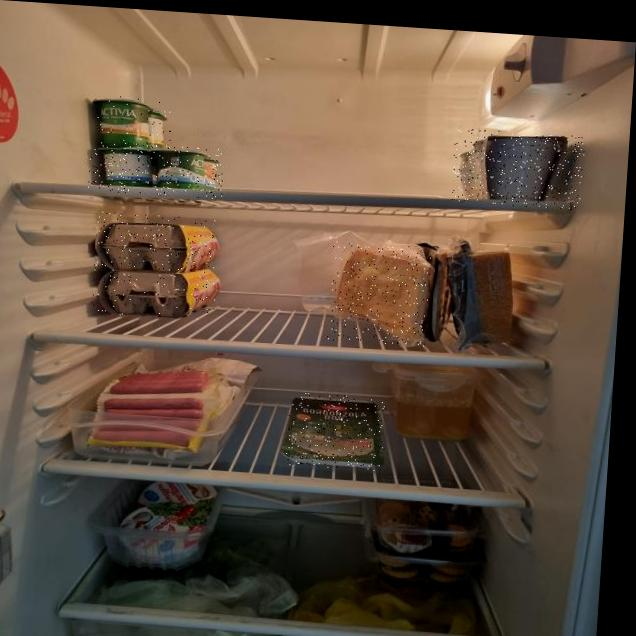cheese: (327, 241, 432, 347), (285, 392, 387, 473)
eggs: (91, 259, 220, 322), (94, 212, 216, 278)
yoghurt: (450, 128, 586, 211), (88, 141, 225, 199), (94, 95, 173, 148)
